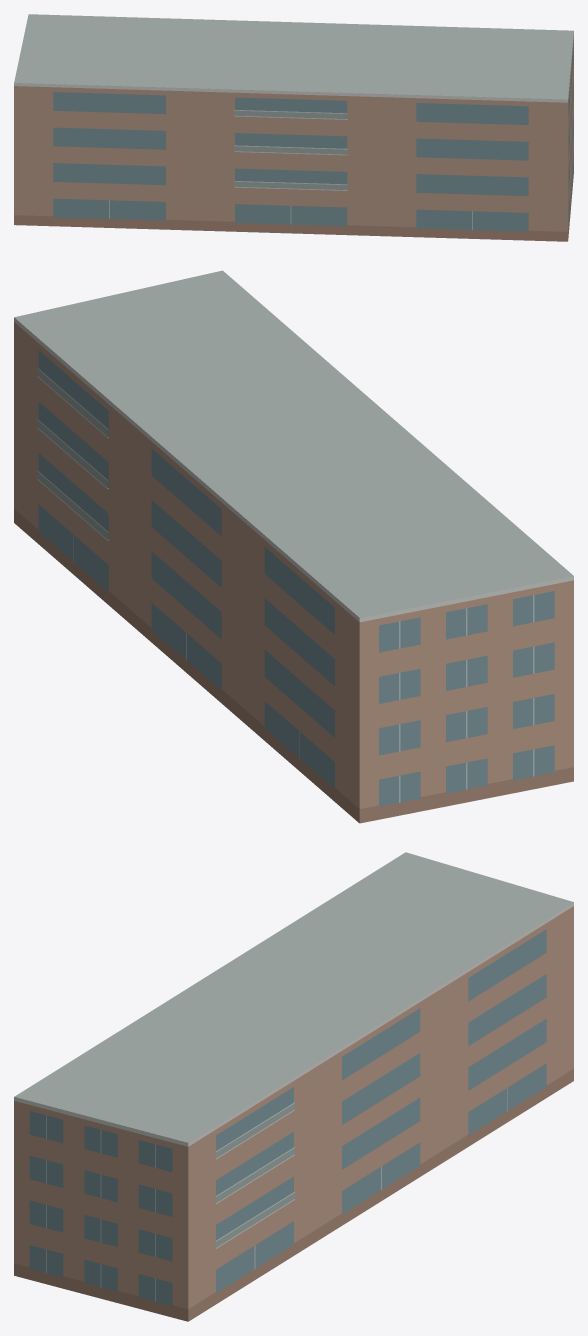
The model's file is survey-upis-32479092.glb.
3 views of the same model, one above another, from view 1: azimuth 30°, elevation 25°; view 2: azimuth 150°, elevation 25°; view 3: azimuth 270°, elevation 25° (orthographic). The views are drawn at different scales.
Parts seen in each view (by area): view 1: survey-upis-32479092.tmp; view 2: survey-upis-32479092.tmp; view 3: survey-upis-32479092.tmp.
Part boxes in pixels (x1,y1,x2,y2): survey-upis-32479092.tmp: (14, 14, 573, 241); survey-upis-32479092.tmp: (14, 270, 573, 823); survey-upis-32479092.tmp: (14, 852, 573, 1321).
Bounding box in the file's own units: 38.7 × 11.1 × 31.5.
